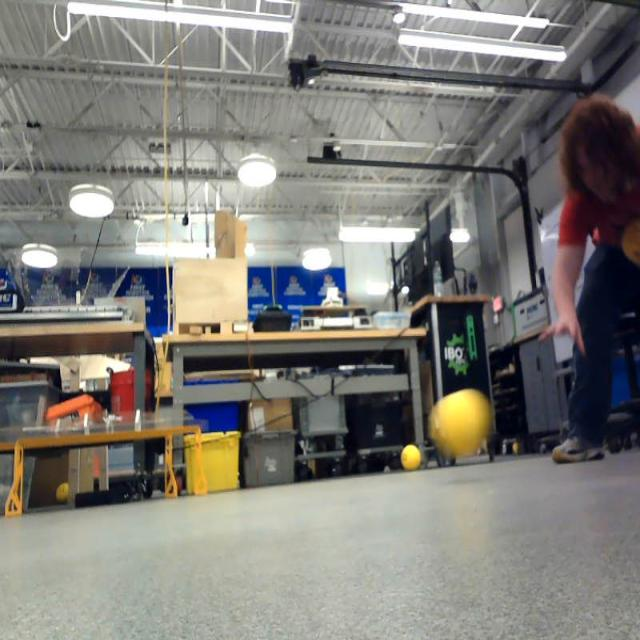Fuel: (442, 391, 486, 456), (402, 445, 421, 471), (55, 483, 71, 503)
